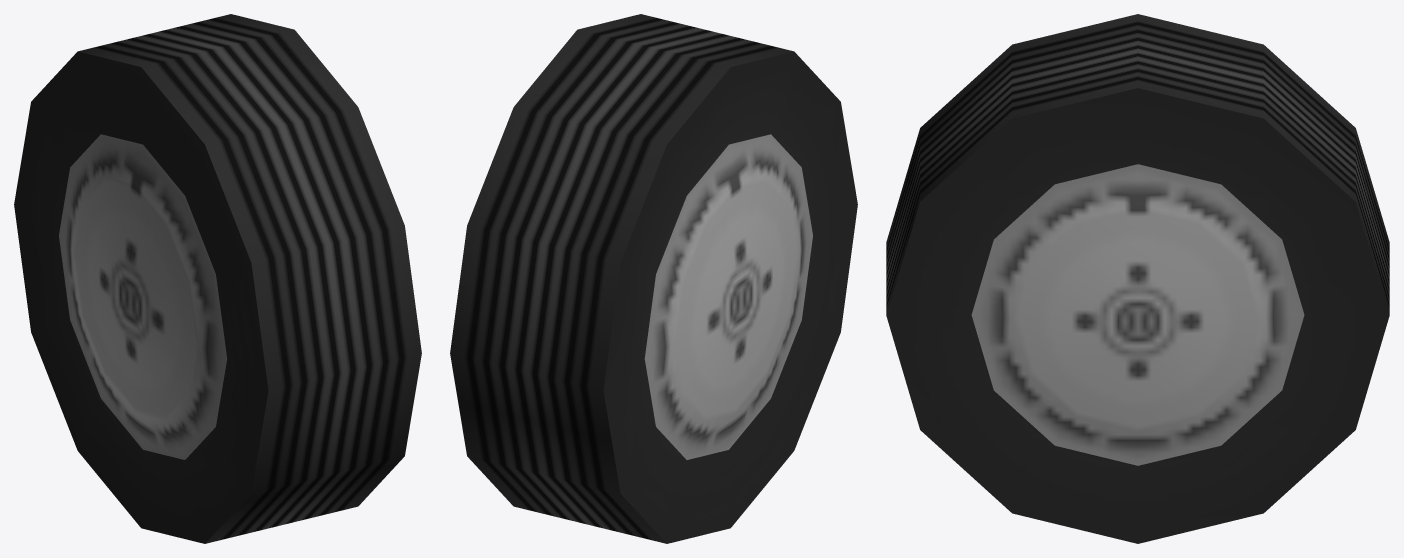
Rendered from ZxiCovetWheel.fbx.
3 views of the same model, side by side, from view 1: azimuth 30°, elevation 25°; view 2: azimuth 150°, elevation 25°; view 3: azimuth 270°, elevation 25° (orthographic).
Visible parts, largest first — view 1: WheelCovetA; view 2: WheelCovetA; view 3: WheelCovetA.
Boxes of the visible parts, x1,y1,x2,y2 form: WheelCovetA: [14, 14, 421, 543]; WheelCovetA: [450, 14, 857, 543]; WheelCovetA: [886, 14, 1389, 543].
Size of the model in its own units: 0.2477 by 0.6253 by 0.6253.
